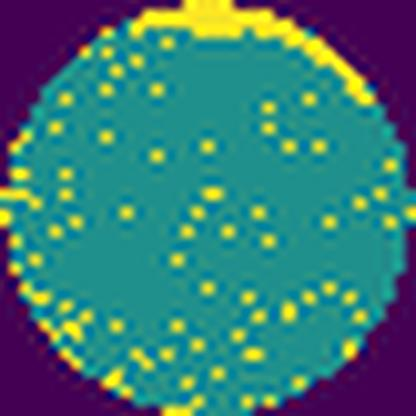Edge-Loc: (130, 0, 374, 110)
